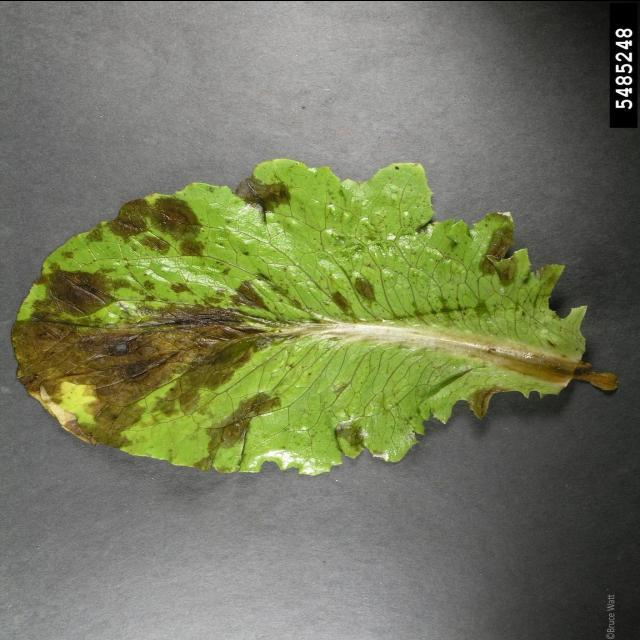Lettuce: (8, 151, 584, 475)
